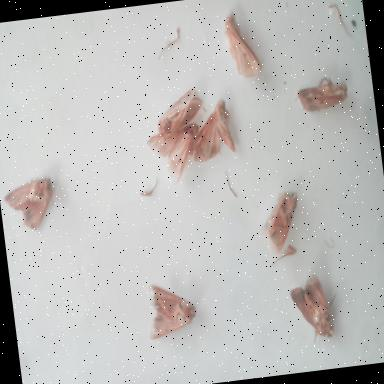abw: (142, 118, 208, 189), (286, 268, 344, 348), (180, 95, 240, 169), (140, 274, 201, 345), (0, 170, 59, 237), (253, 187, 307, 260), (220, 7, 264, 83), (150, 82, 208, 138), (290, 70, 352, 117)
